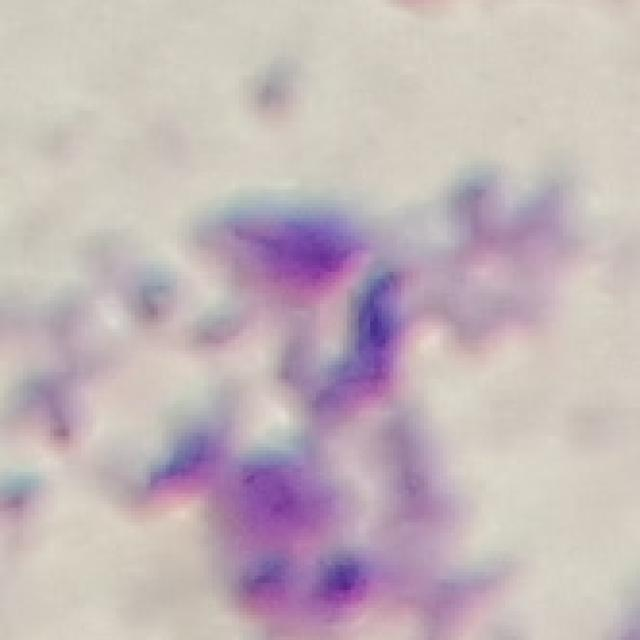non-sperm: (193, 198, 481, 620)
